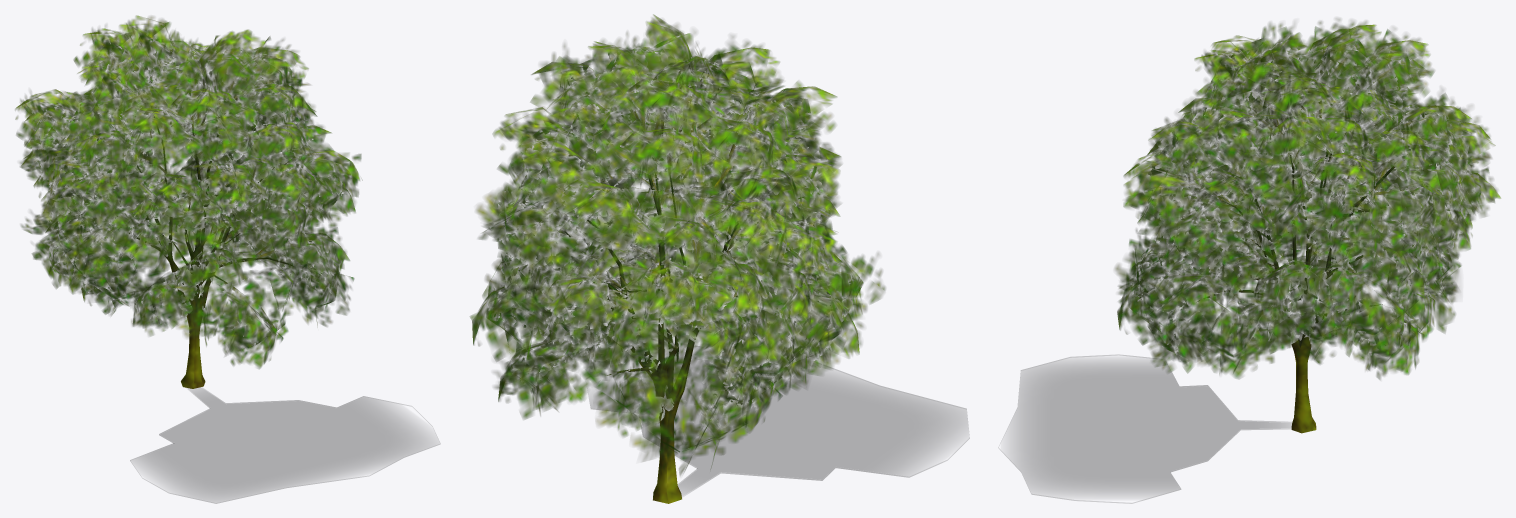
The model's file is shu1.obj.
3 views of the same model, side by side, from view 1: azimuth 30°, elevation 25°; view 2: azimuth 150°, elevation 25°; view 3: azimuth 270°, elevation 25° (orthographic). The views are drawn at different scales.
Visible parts, largest first — view 1: shu1, Line01; view 2: shu1, Line01; view 3: shu1, Line01.
Boxes of the visible parts, <box> form: shu1: <box>15,15,362,388</box>; Line01: <box>130,387,439,503</box>; shu1: <box>470,14,885,503</box>; Line01: <box>588,346,969,495</box>; shu1: <box>1114,18,1500,433</box>; Line01: <box>1004,355,1291,503</box>.
Size of the model in its own units: 292 by 330 by 379.
